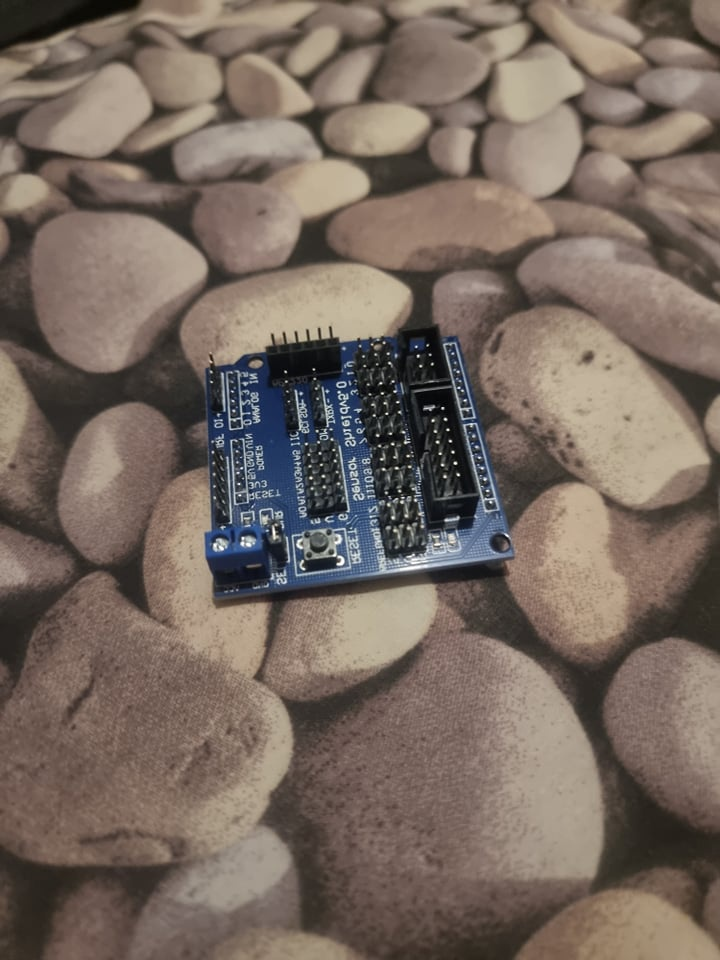5V EXPANSION: (201, 319, 516, 610)
